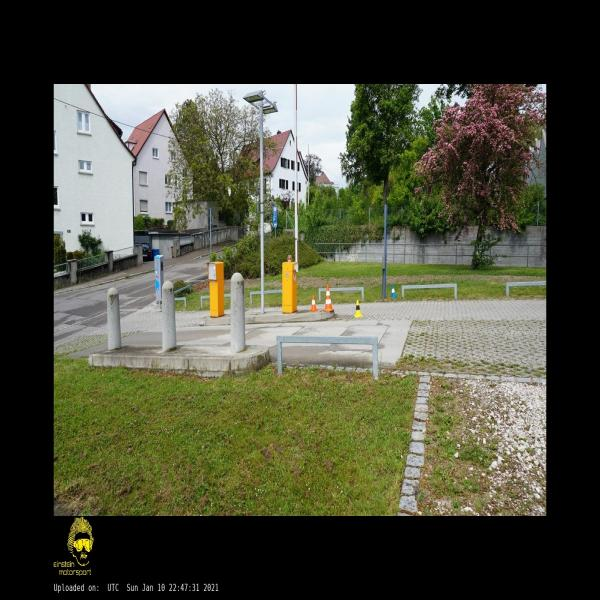blue_cone: (391, 284, 397, 298)
large_orange_cone: (324, 284, 333, 311)
orange_cone: (310, 295, 317, 311)
yellow_cone: (354, 300, 362, 317)
